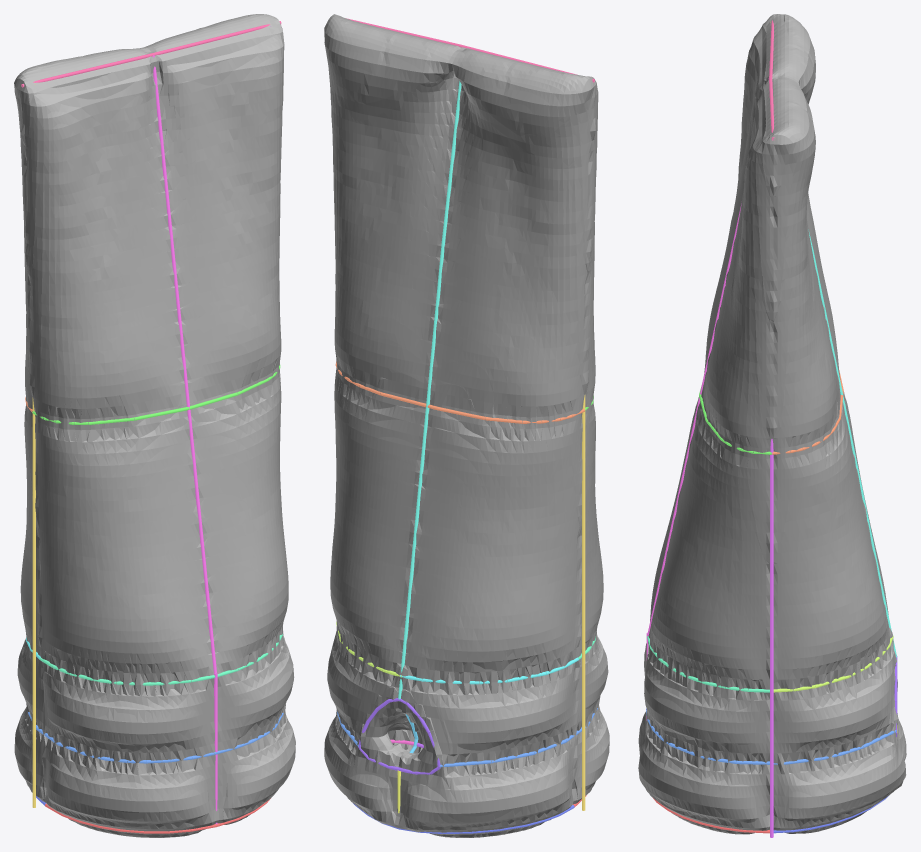
Rendered from t2f_toothpaste.gltf.
3 views of the same model, side by side, from view 1: azimuth 30°, elevation 25°; view 2: azimuth 150°, elevation 25°; view 3: azimuth 270°, elevation 25° (orthographic). The views are drawn at different scales.
Size of the model in its own units: 0.3392 by 0.9267 by 0.3096.
